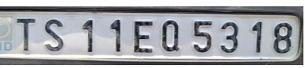1: (106, 15, 128, 55), (81, 13, 96, 56), (251, 18, 265, 57)
3: (219, 18, 240, 57)
5: (190, 18, 216, 54)
8: (272, 17, 294, 58)
E: (131, 16, 159, 55)
Q: (159, 17, 184, 55)
S: (40, 17, 67, 53)
T: (15, 15, 37, 57)
